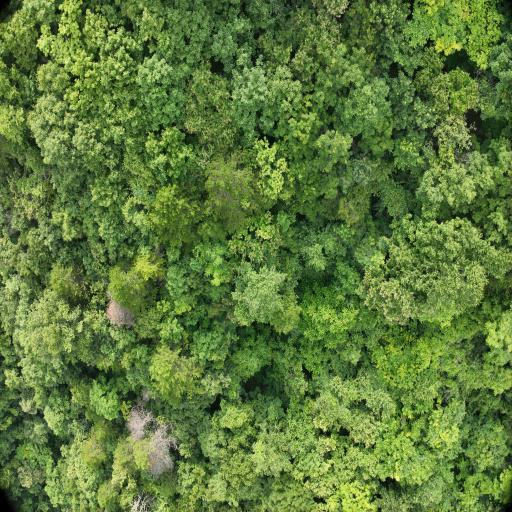dead-tree: (152, 439, 168, 479), (132, 410, 148, 434), (109, 304, 124, 326)
